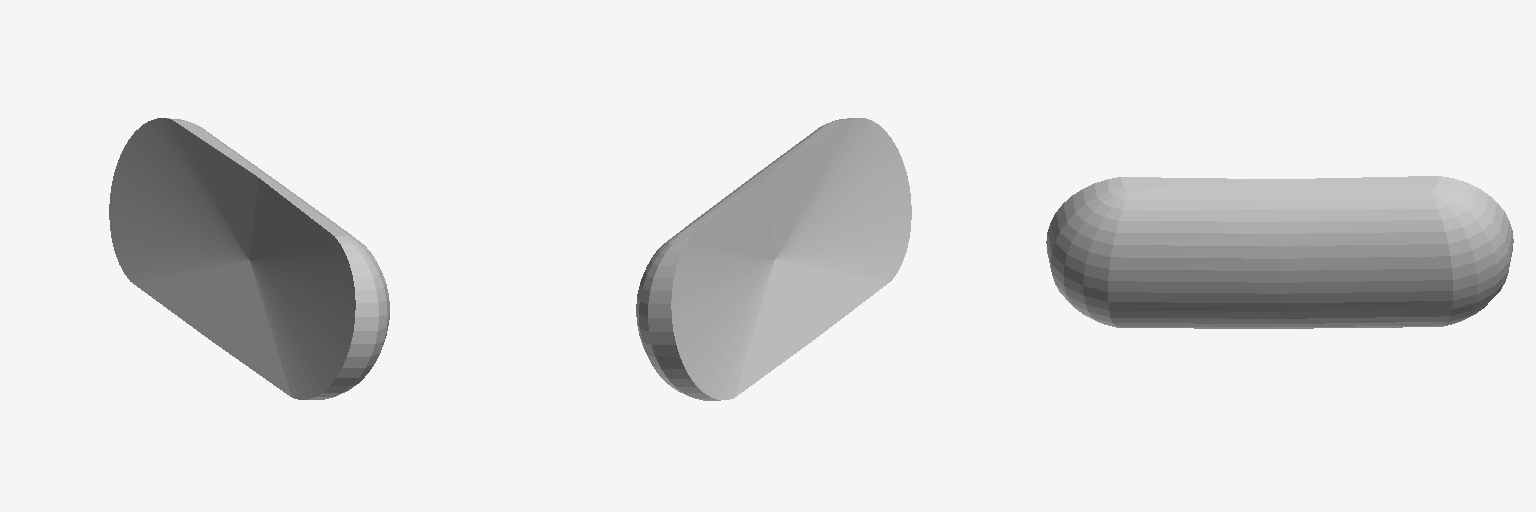
File: HotDogBun1.obj
3 renders of one model, left to right at view 1: azimuth 30°, elevation 25°; view 2: azimuth 150°, elevation 25°; view 3: azimuth 270°, elevation 25°, orthographic.
Parts seen in each view (by area): view 1: HotDogBun:pSphere4; view 2: HotDogBun:pSphere4; view 3: HotDogBun:pSphere4.
Boxes of the visible parts, box(x1,y1,x2,y2) form: HotDogBun:pSphere4: box(109, 118, 389, 399); HotDogBun:pSphere4: box(636, 118, 911, 400); HotDogBun:pSphere4: box(1046, 176, 1513, 328).
Bounding box in the file's own units: 1.2 × 1.97 × 5.31.